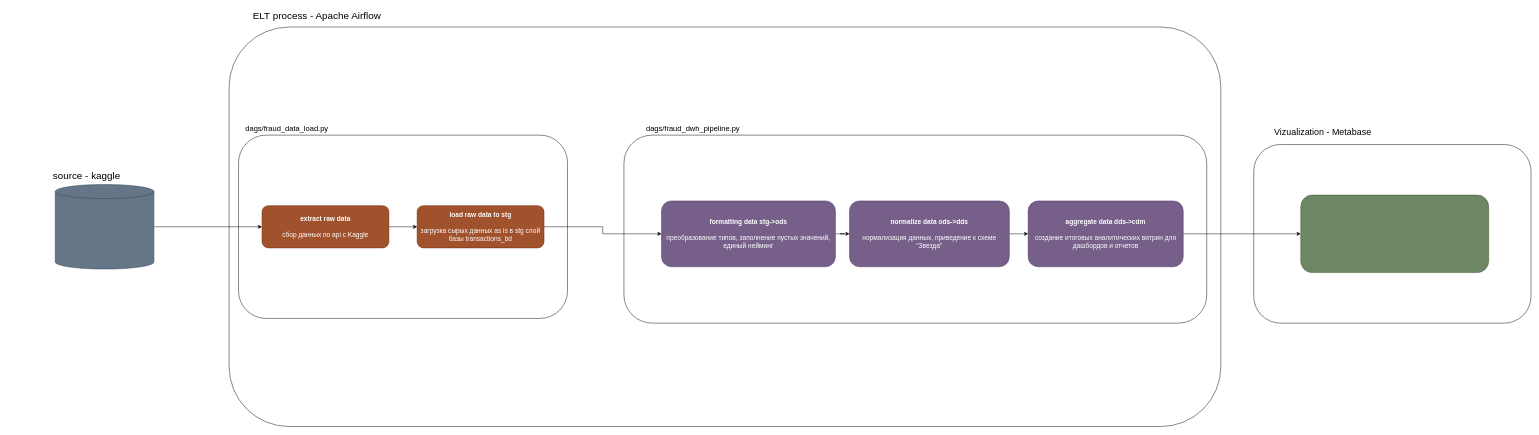
Some shapes in this 1539 by 435 pixel diagram are drawn without their labels. Each missing label, with the box of its shape:
Kaggle.com: (55, 184, 154, 269)
vizualize data визуализация данных: (1300, 195, 1489, 273)
